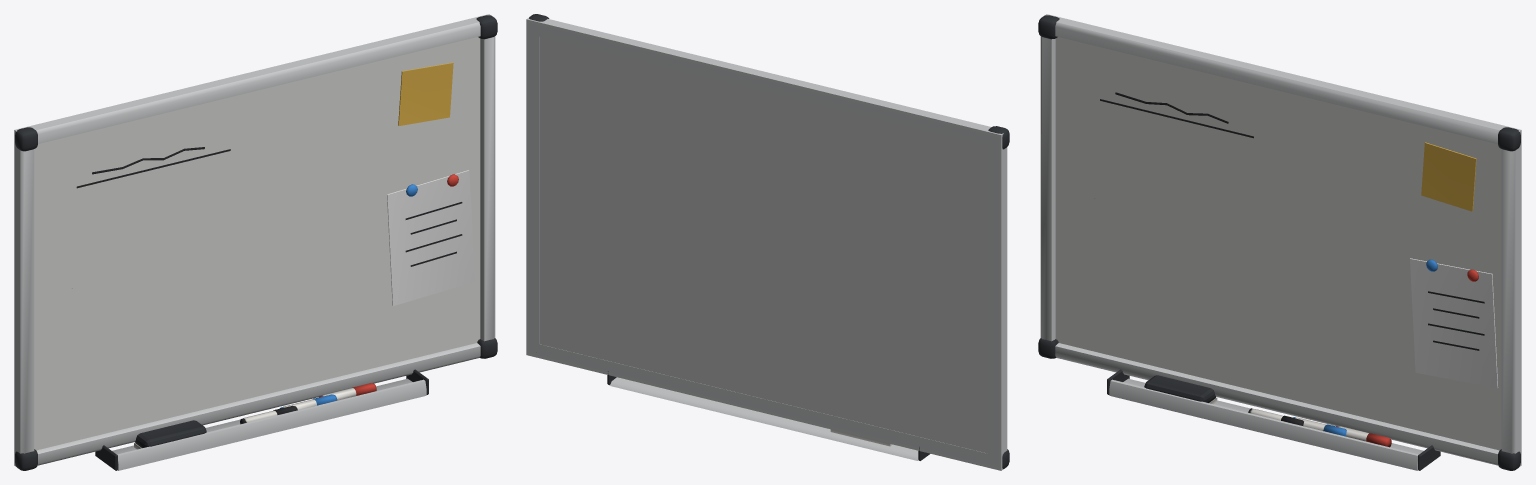
The model's file is whiteboard.glb.
3 renders of one model, left to right at view 1: azimuth 30°, elevation 25°; view 2: azimuth 150°, elevation 25°; view 3: azimuth 330°, elevation 25°, orthographic.
Visible parts, largest first — view 1: whiteboard; view 2: whiteboard; view 3: whiteboard.
Part boxes in pixels (<box>): whiteboard: <box>14,14,497,470</box>; whiteboard: <box>526,14,1009,470</box>; whiteboard: <box>1038,14,1521,470</box>.
Size of the model in its own units: 0.931 by 0.6475 by 0.07.
